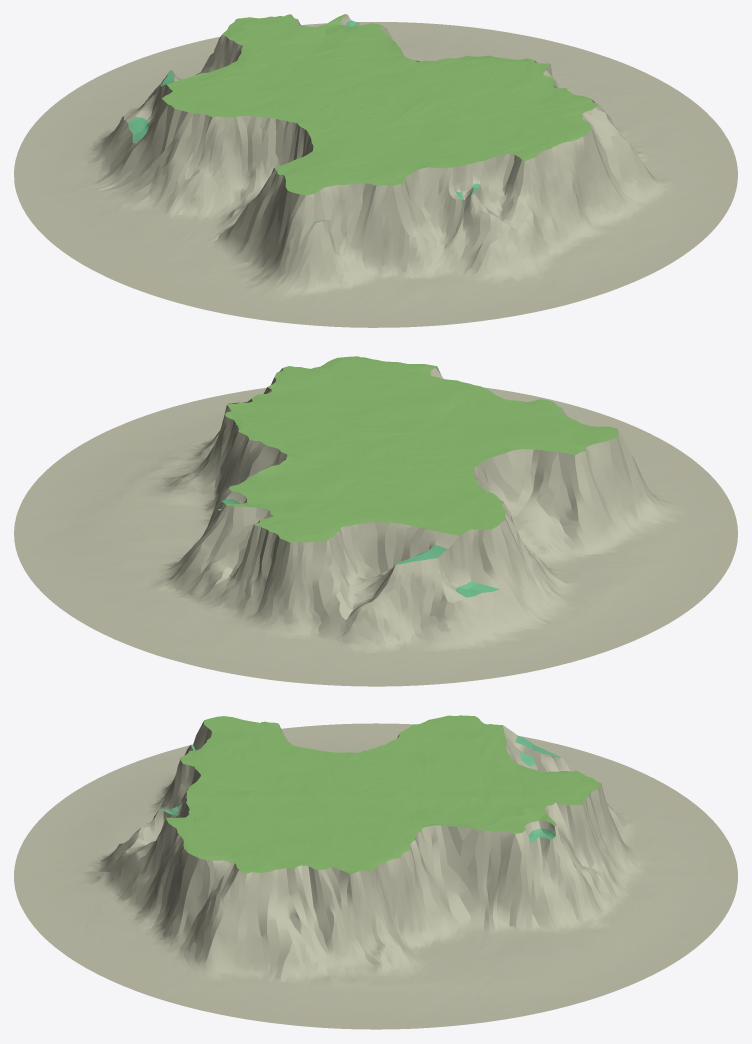
The model's file is ocean_sample_island_A.fbx.
The picture shows the model from 3 angles, top to bottom: view 1: azimuth 30°, elevation 25°; view 2: azimuth 150°, elevation 25°; view 3: azimuth 270°, elevation 25°; orthographic projection.
Parts seen in each view (by area): view 1: ocean_sample_island_A; view 2: ocean_sample_island_A; view 3: ocean_sample_island_A.
Part boxes in pixels (bbox=[...]): ocean_sample_island_A: bbox=[14, 14, 737, 327]; ocean_sample_island_A: bbox=[14, 356, 737, 686]; ocean_sample_island_A: bbox=[14, 715, 737, 1029].
Size of the model in its own units: 13361 by 1652 by 13357.
